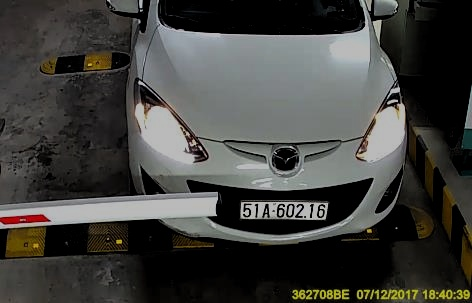plate: (237, 196, 333, 226)
